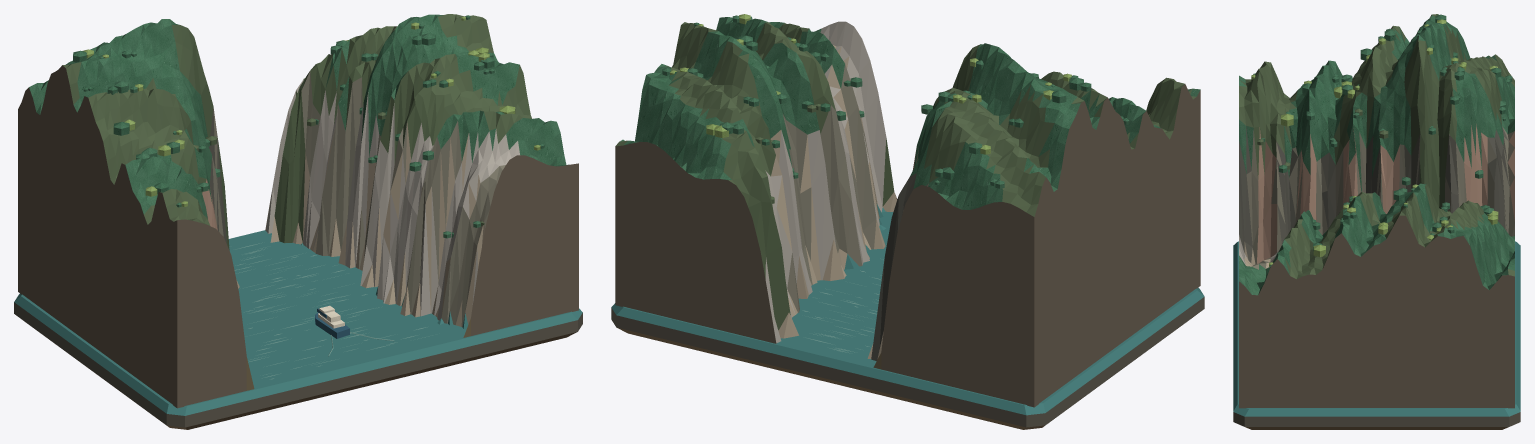
The model's file is qutang-kuimen.glb.
3 renders of one model, left to right at view 1: azimuth 30°, elevation 25°; view 2: azimuth 150°, elevation 25°; view 3: azimuth 270°, elevation 25°, orthographic. The views are drawn at different scales.
Parts seen in each view (by area): view 1: 长江三峡·瞿塘峡夔门; view 2: 长江三峡·瞿塘峡夔门; view 3: 长江三峡·瞿塘峡夔门.
Part boxes in pixels (x1,y1,x2,y2): 长江三峡·瞿塘峡夔门: (14,14,582,429); 长江三峡·瞿塘峡夔门: (611,14,1204,429); 长江三峡·瞿塘峡夔门: (1233,14,1520,429).
Bounding box in the file's own units: 6.15 × 4.41 × 4.25.
Materials: 17 (4 with a texture image).
